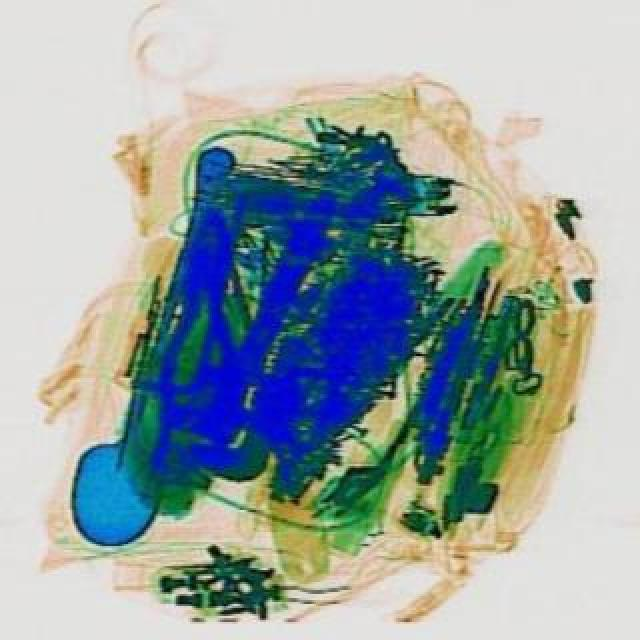wrench: (150, 206, 244, 464)
